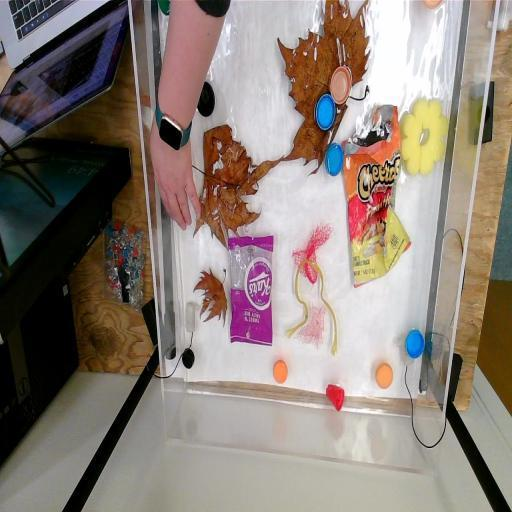Bottle Cap: (330, 62, 353, 105), (314, 90, 336, 132), (372, 358, 395, 393), (404, 326, 426, 362), (324, 138, 342, 178), (198, 81, 216, 119), (273, 359, 289, 386), (420, 0, 447, 14), (156, 0, 172, 19), (181, 348, 195, 369)
Cone Cap: (323, 378, 347, 414)
Leaf: (276, 1, 369, 172), (196, 120, 280, 246), (192, 263, 230, 332)
Netting: (290, 220, 334, 286), (298, 302, 328, 352)
Plastic Bag: (342, 102, 412, 294), (227, 232, 275, 350)
Plastic Strand: (287, 258, 342, 362)
Sponge: (402, 92, 450, 178)
